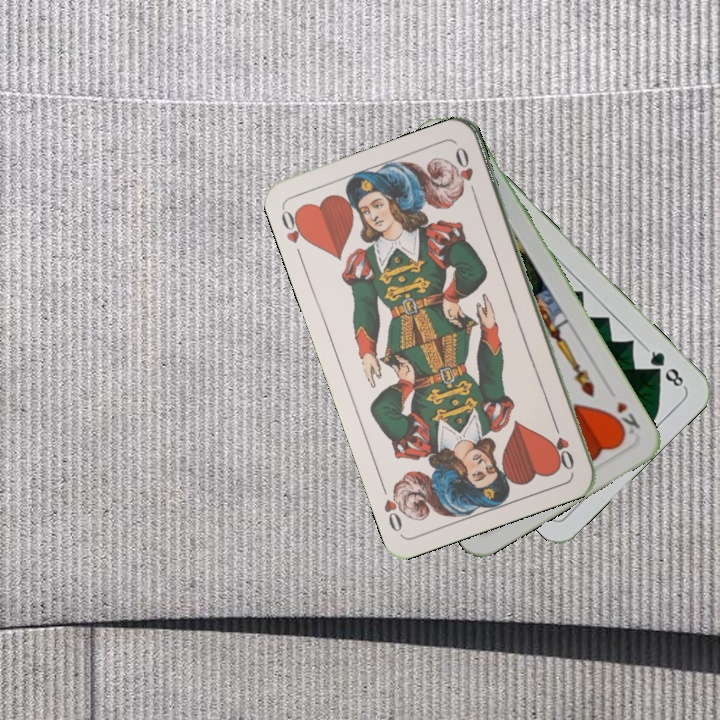G8: (642, 344, 688, 392)
HK: (607, 397, 643, 441)
HO: (277, 204, 313, 262), (548, 416, 577, 473)
